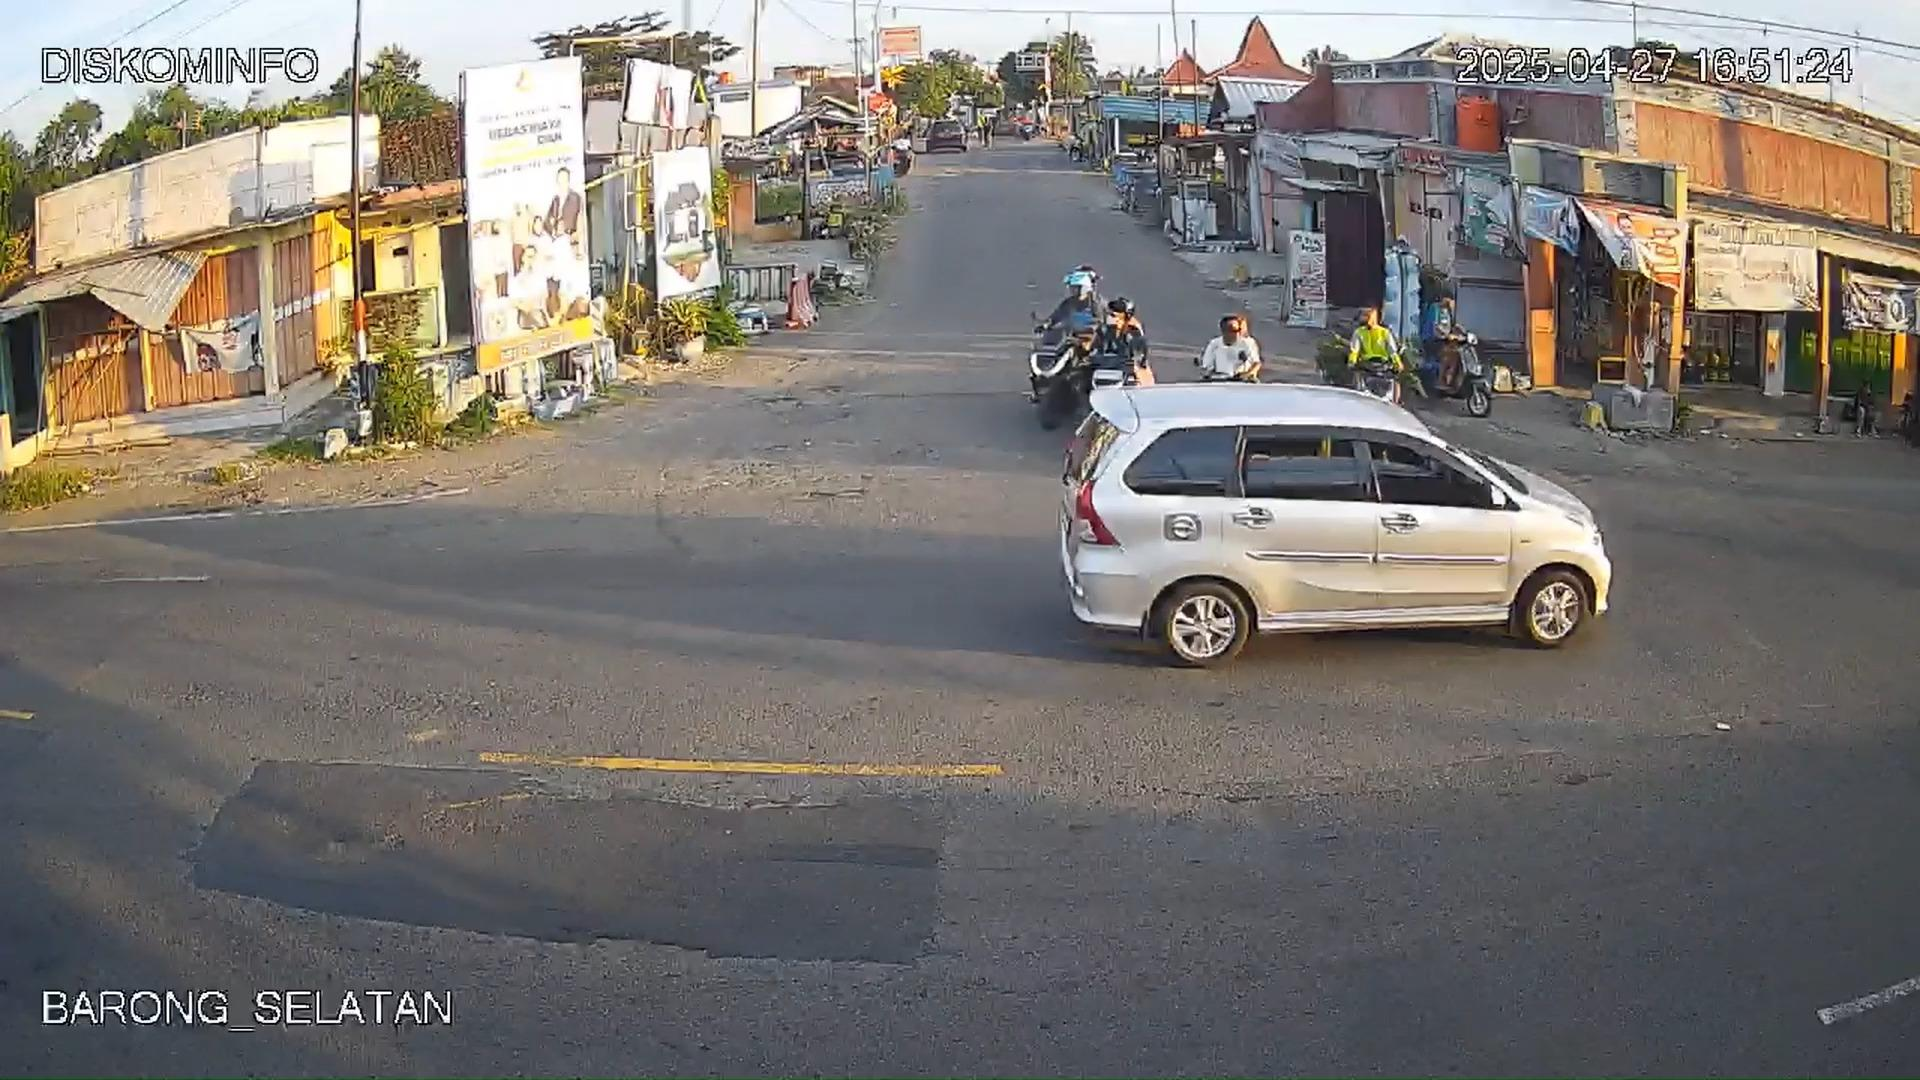Motor: (1026, 310, 1092, 431), (1422, 324, 1491, 418), (1348, 306, 1406, 402), (1199, 313, 1261, 385)
mobil: (1073, 385, 1604, 663)
